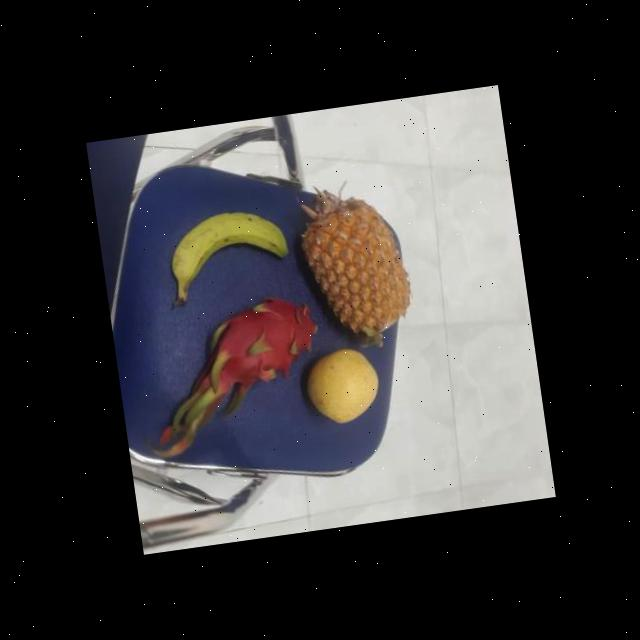banana: (162, 200, 298, 302)
pear: (300, 344, 384, 432)
pineapple: (290, 182, 416, 347)
pitaya: (206, 294, 325, 398)
